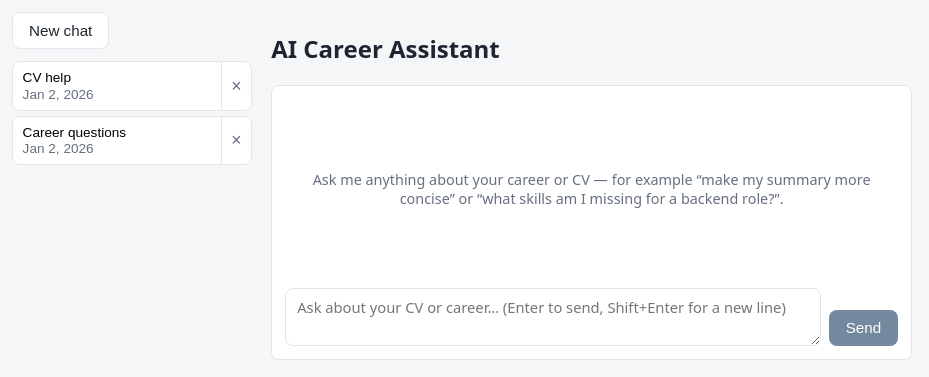
it: <Chat /> page › lists conversations and loads one when selected
Click the text "CV help" at (47, 78), box [23,70,71,85]
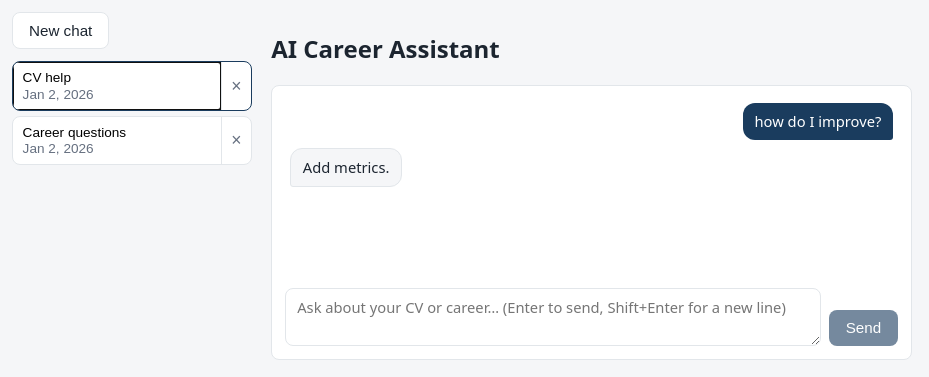
Now the text "Add metrics." is shown, box [290,148,402,187]
